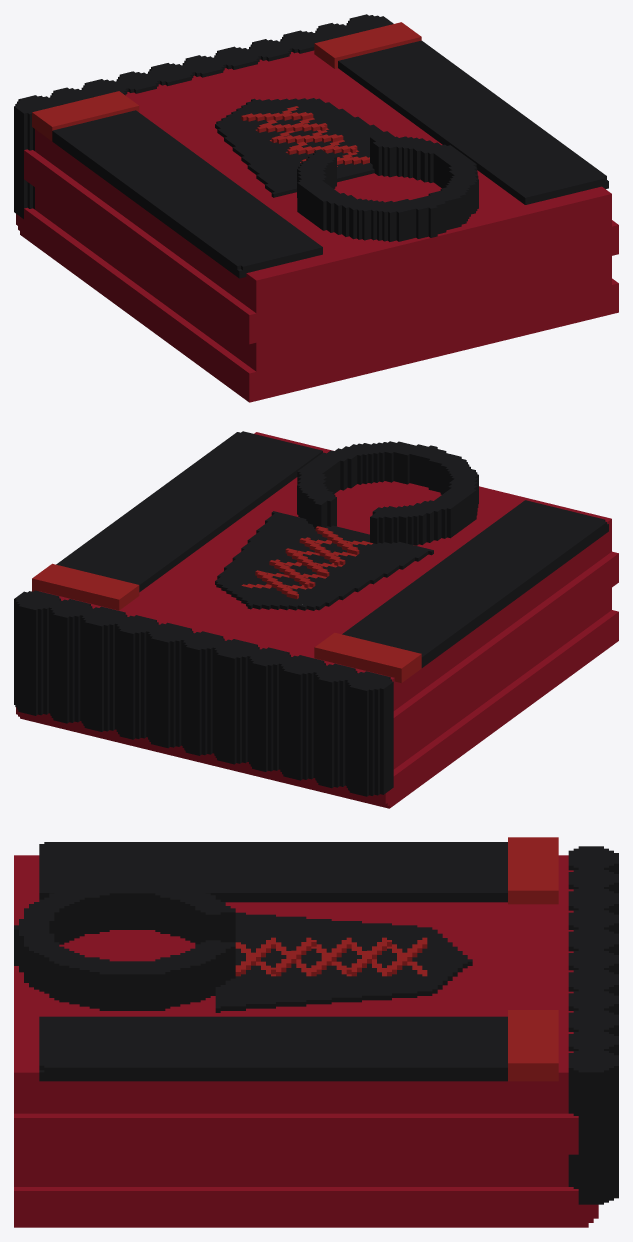
File: sinister_gown.glb
The picture shows the model from 3 angles, top to bottom: view 1: azimuth 30°, elevation 25°; view 2: azimuth 150°, elevation 25°; view 3: azimuth 270°, elevation 25°; orthographic projection. The views are drawn at different scales.
Visible parts, largest first — view 1: sinister_gown:compound; view 2: sinister_gown:compound; view 3: sinister_gown:compound.
Part boxes in pixels (<box>): sinister_gown:compound: <box>14,14,618,402</box>; sinister_gown:compound: <box>14,431,618,808</box>; sinister_gown:compound: <box>14,837,618,1227</box>.
Size of the model in its own units: 0.424 by 0.164 by 0.48.
